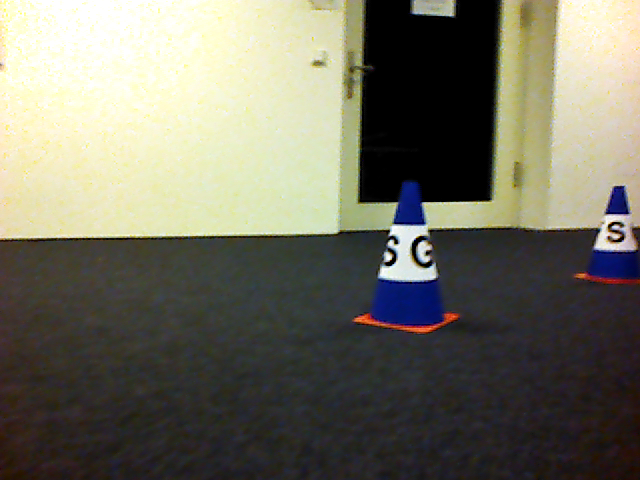bluecone: (348, 181, 462, 338), (574, 186, 640, 287)
